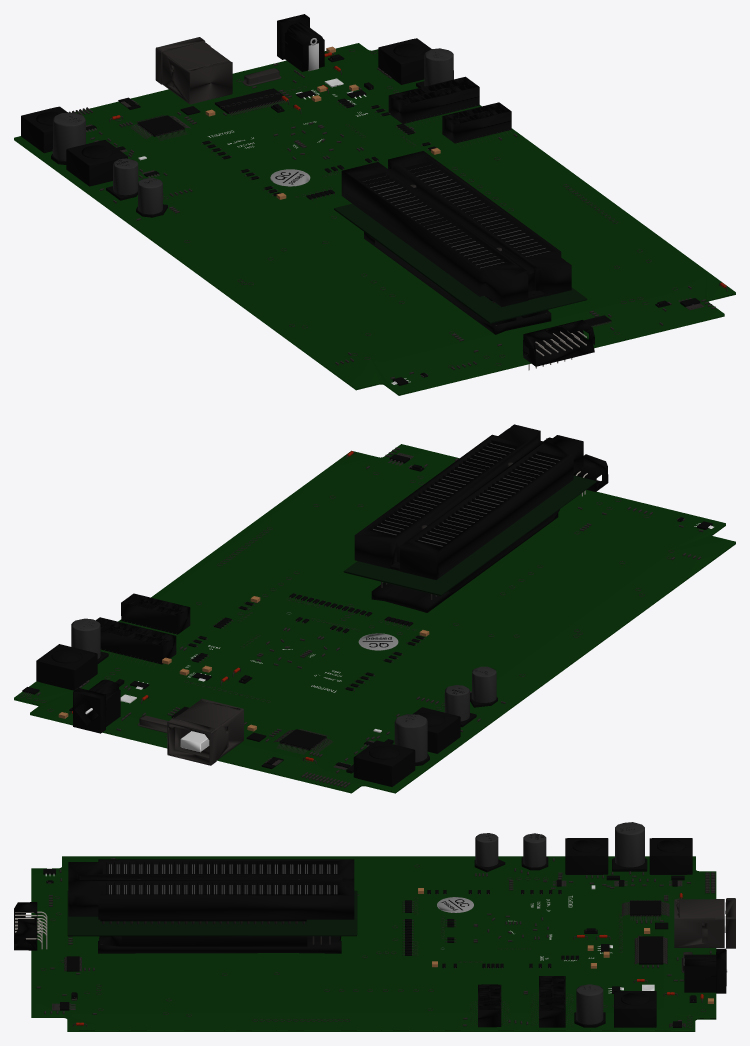
The model's file is green-circuit-board-mobile.glb.
3 renders of one model, top to bottom at view 1: azimuth 30°, elevation 25°; view 2: azimuth 150°, elevation 25°; view 3: azimuth 270°, elevation 25°, orthographic. The views are drawn at different scales.
Parts seen in each view (by area): view 1: Line001, ComponentCluster_23, ComponentCluster_14, ComponentCluster_30, ComponentCluster_8, ComponentCluster_9, ComponentCluster_16, ComponentCluster_2, ComponentCluster_11, ComponentCluster_21, ComponentCluster_4, ComponentCluster_5 (+8 smaller); view 2: Line001, ComponentCluster_23, ComponentCluster_8, ComponentCluster_30, ComponentCluster_14, ComponentCluster_9, ComponentCluster_4, ComponentCluster_11, ComponentCluster_21, ComponentCluster_2, ComponentCluster_5, ComponentCluster_16 (+7 smaller); view 3: Line001, ComponentCluster_23, ComponentCluster_30, ComponentCluster_14, ComponentCluster_8, ComponentCluster_4, ComponentCluster_2, ComponentCluster_9, ComponentCluster_5, ComponentCluster_16, ComponentCluster_10, ComponentCluster_11 (+13 smaller).
Part boxes in pixels (x1,y1,x2,y2): Line001: (14,43,735,395); ComponentCluster_23: (341,151,571,334); ComponentCluster_14: (115,37,246,140); ComponentCluster_30: (334,203,587,323); ComponentCluster_8: (277,14,431,97); ComponentCluster_9: (388,76,479,123); ComponentCluster_16: (468,253,594,366); ComponentCluster_2: (66,140,159,200); ComponentCluster_11: (442,102,511,143); ComponentCluster_21: (449,194,536,247); ComponentCluster_4: (21,106,125,164); ComponentCluster_5: (52,112,85,160); Line001: (14,444,735,793); ComponentCluster_23: (354,424,583,612); ComponentCluster_8: (22,644,149,733); ComponentCluster_30: (343,475,596,596); ComponentCluster_14: (167,695,332,765); ComponentCluster_9: (96,617,176,664); ComponentCluster_4: (335,740,429,786); ComponentCluster_11: (121,593,190,634); ComponentCluster_21: (414,452,501,505); ComponentCluster_2: (384,703,476,753); ComponentCluster_5: (394,714,427,762); ComponentCluster_16: (524,436,608,491); Line001: (31,856,716,1031); ComponentCluster_23: (68,859,354,953); ComponentCluster_30: (67,890,357,936); ComponentCluster_14: (618,898,735,948); ComponentCluster_8: (612,948,726,1027); ComponentCluster_4: (612,838,692,886); ComponentCluster_2: (502,838,619,886); ComponentCluster_9: (539,976,605,1027); ComponentCluster_5: (615,822,644,867); ComponentCluster_16: (14,862,129,950); ComponentCluster_10: (576,984,603,1024); ComponentCluster_11: (478,984,501,1027).
Size of the model in its own units: 43.64 by 8.79 by 76.8.
